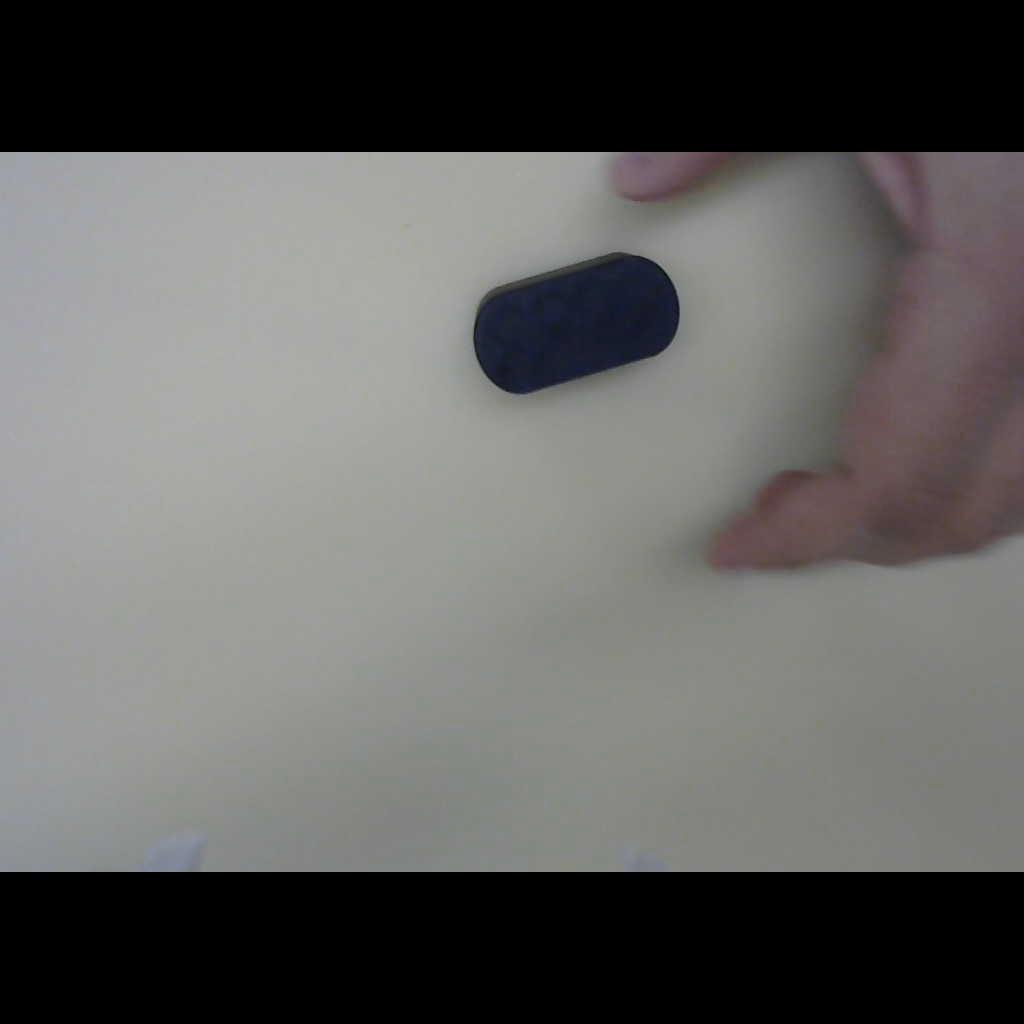oval: (462, 245, 691, 405)
